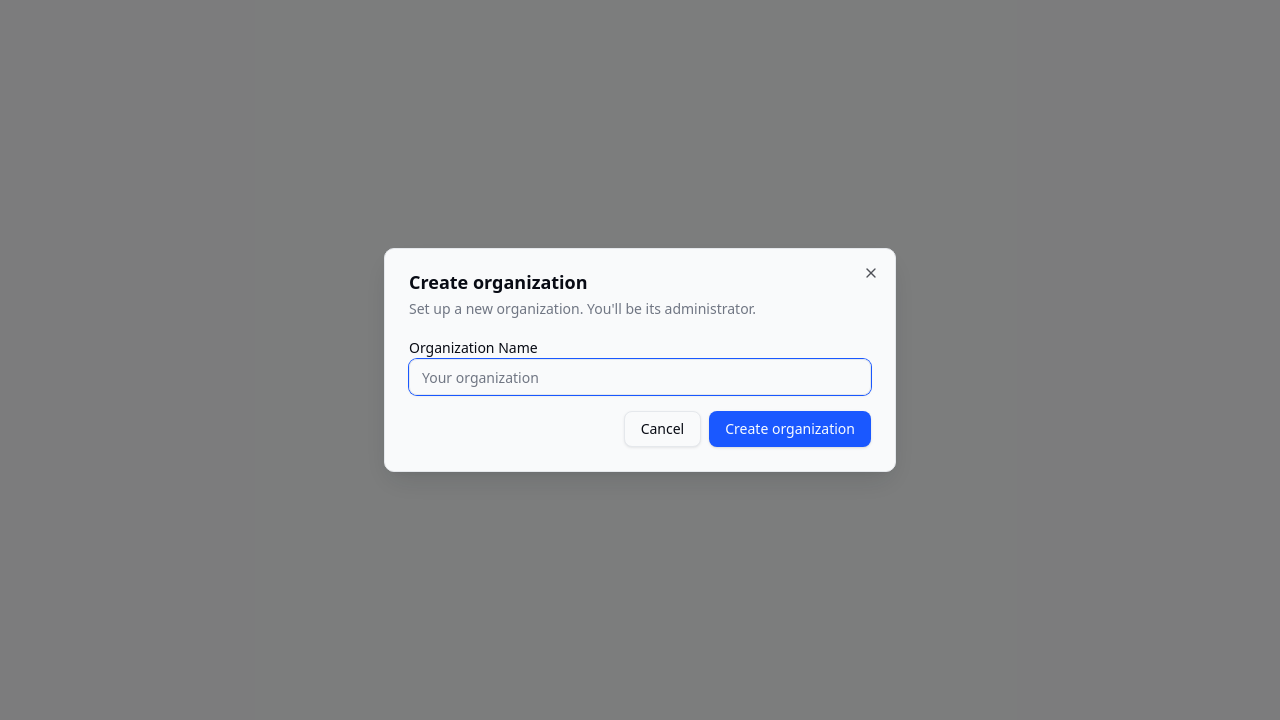
Test: CreateOrganizationDialog › shows an error alert when createOrganization fails
Type "Fail Org" into the field labelled "Organization Name" at {"x": 640, "y": 377}, box [409,359,871,395]
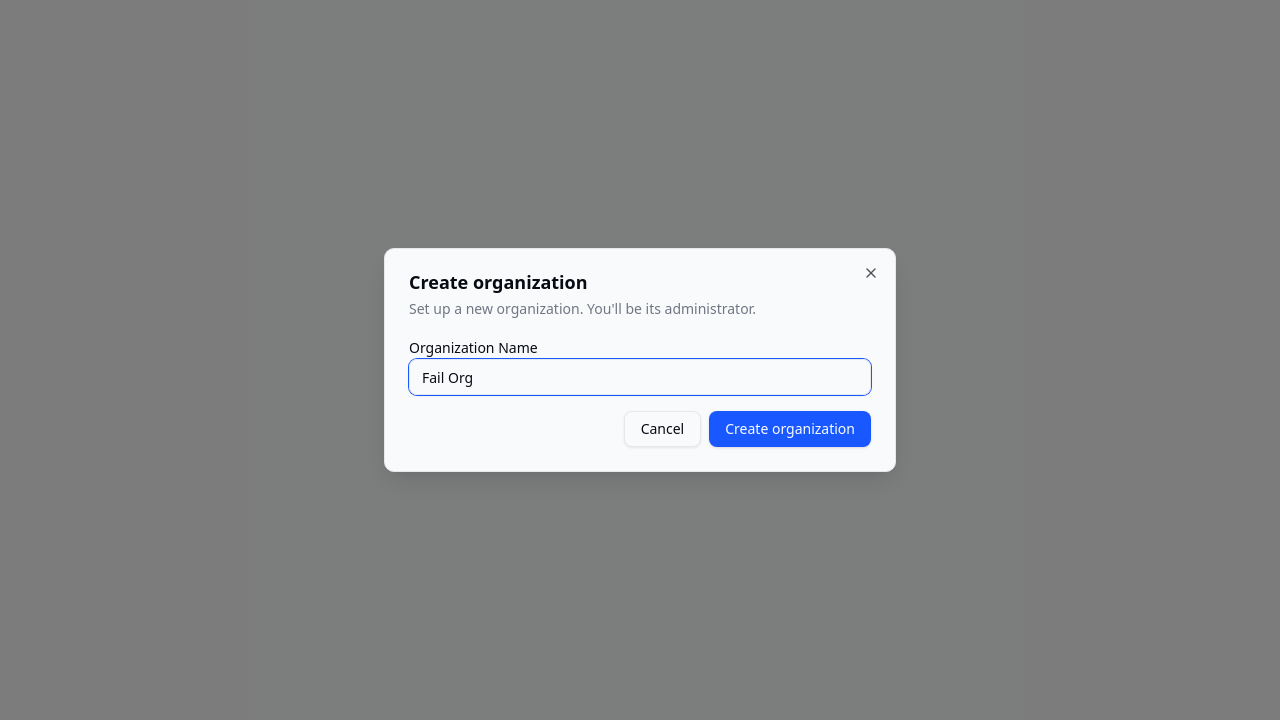
Click the button "Create organization" at {"x": 790, "y": 429}, box [709,411,871,447]
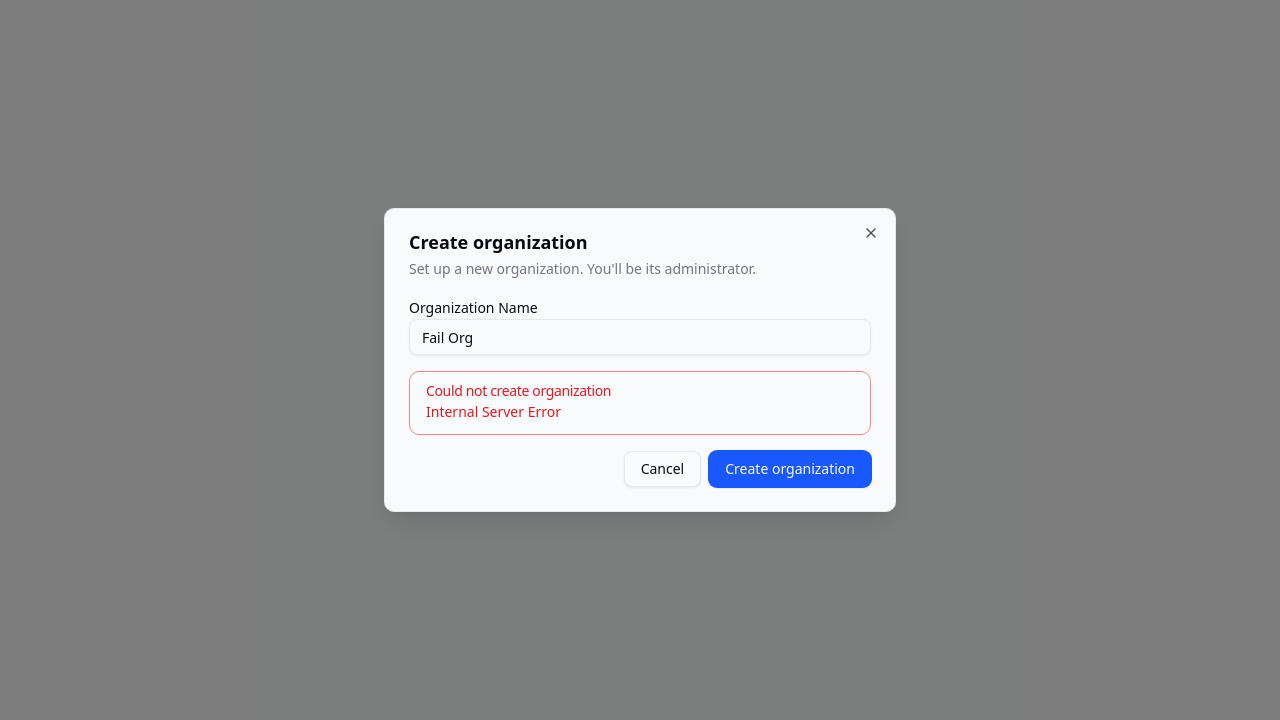
Now the heading "Could not create organization" is shown, box [426,381,611,400]
